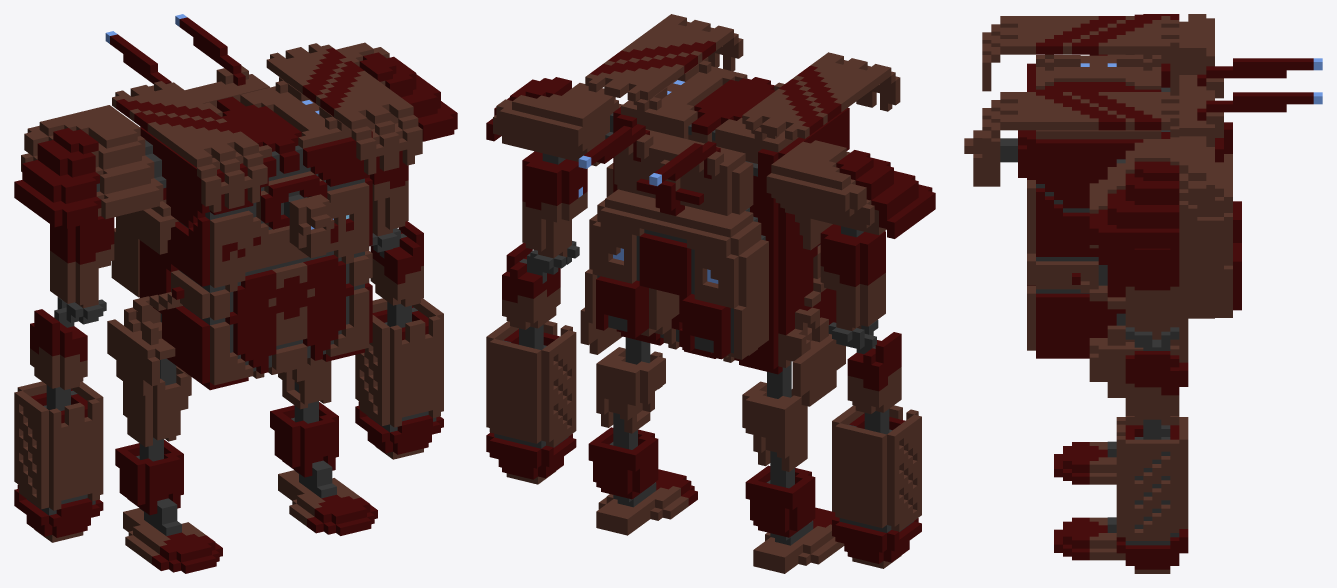
File: big_robot.glb
The picture shows the model from 3 angles, left to right: view 1: azimuth 30°, elevation 25°; view 2: azimuth 150°, elevation 25°; view 3: azimuth 270°, elevation 25°; orthographic projection.
Visible parts, largest first — view 1: Untitled; view 2: Untitled; view 3: Untitled.
Boxes of the visible parts, left/top/right/bottom form: Untitled: left=14, top=14, right=457, bottom=573; Untitled: left=486, top=14, right=935, bottom=573; Untitled: left=964, top=14, right=1322, bottom=573.
Bounding box in the file's own units: 5.2 × 5.4 × 4.
1 material, 1 textured.
